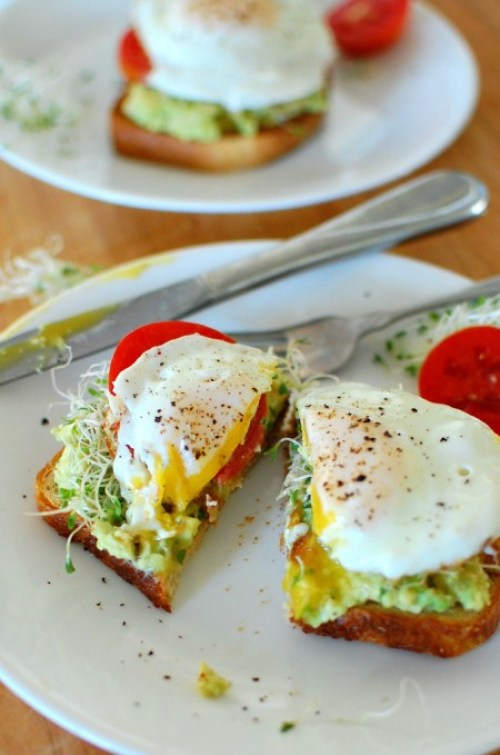fried egg: (303, 392, 483, 572), (119, 344, 244, 510)
slice of bread: (31, 503, 177, 607), (299, 588, 487, 659)
